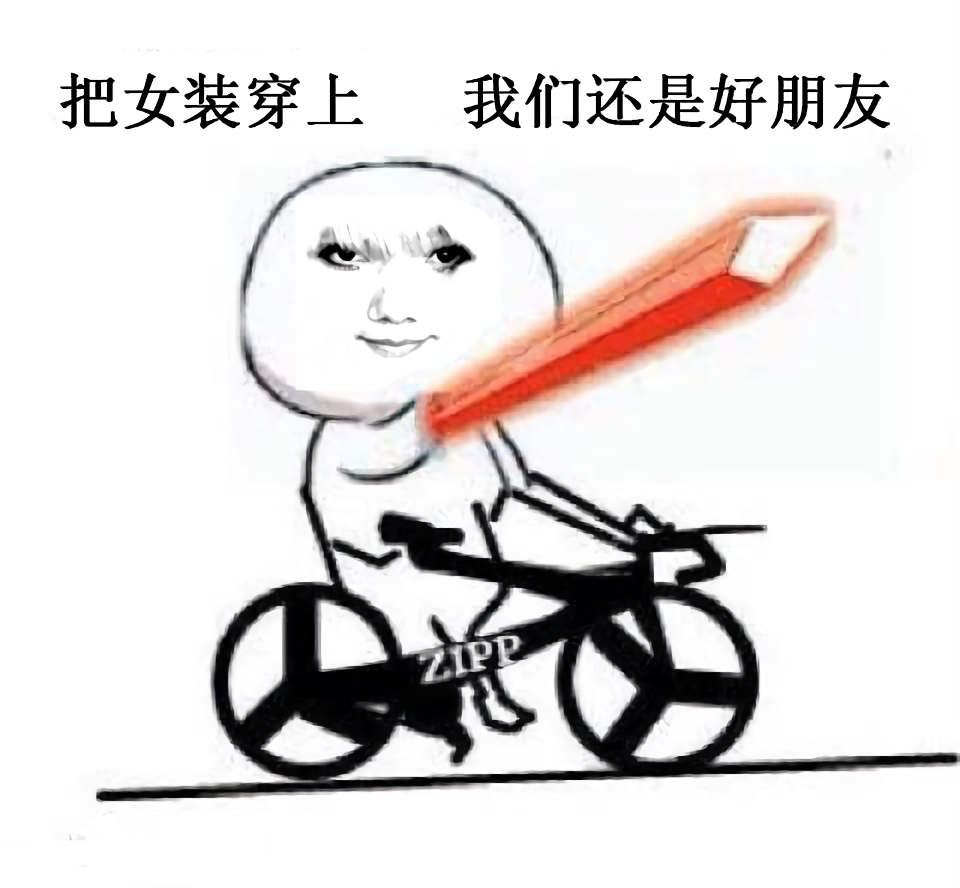dragon: (307, 220, 481, 362)
